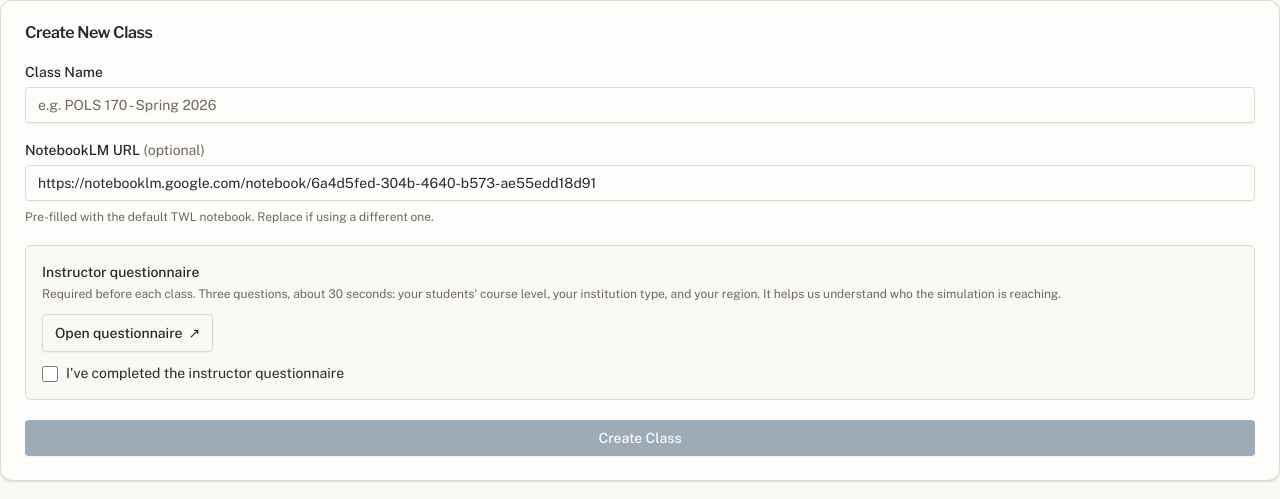
CreateClassForm Component › disables submit until the questionnaire checkbox is ticked
Expected: the button "Create Class" is disabled, [25, 420, 1255, 456]
Click the checkbox labelled "I've completed the instructor questionnaire".
click(50, 374)  # box [42, 366, 58, 382]
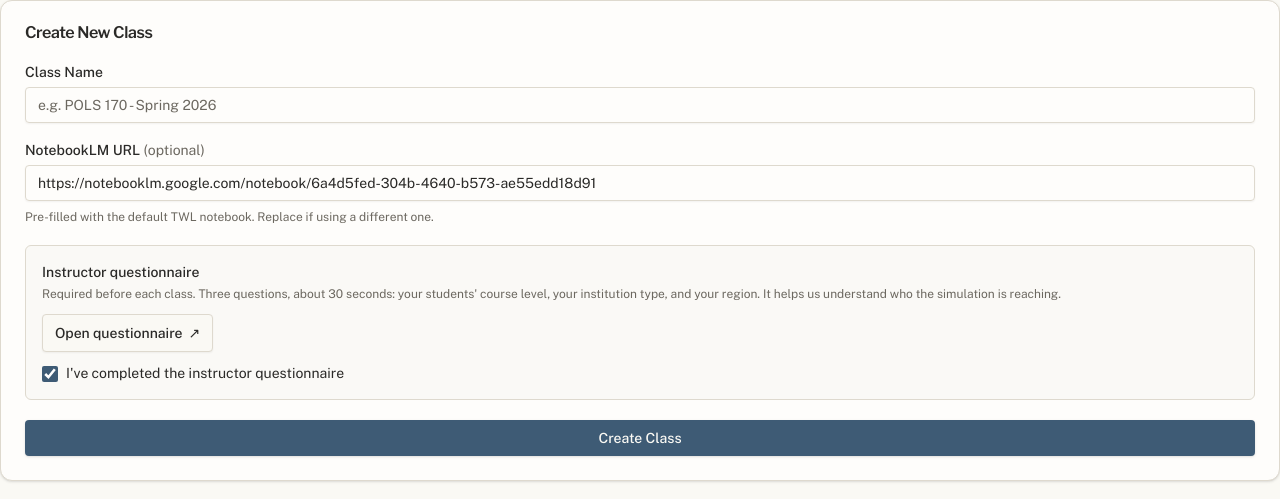
Expected: the button "Create Class" is enabled, [25, 420, 1255, 456]
